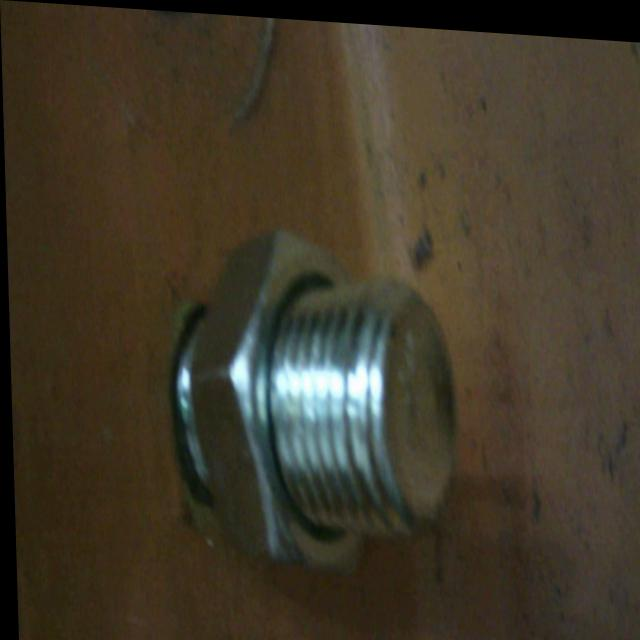Loose bolt: (147, 204, 467, 574)
Regular bolt: (143, 210, 458, 577)
